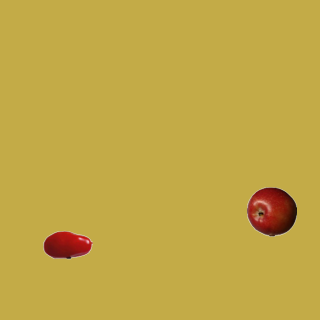Apple Braeburn: (246, 186, 296, 236)
Tomato 2: (42, 219, 92, 269)
